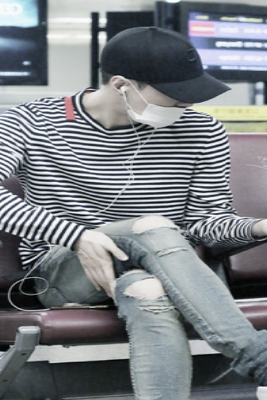mask_weared_incorrect: (127, 84, 192, 131)
